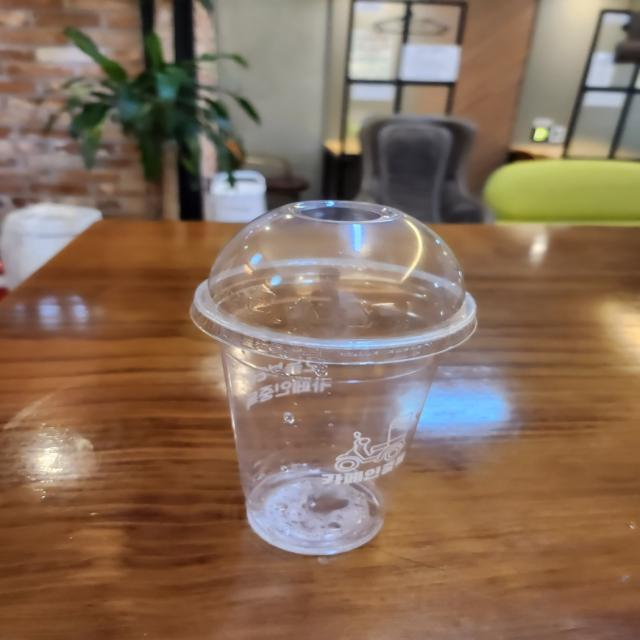plastic_cup_lid: (182, 180, 488, 362)
